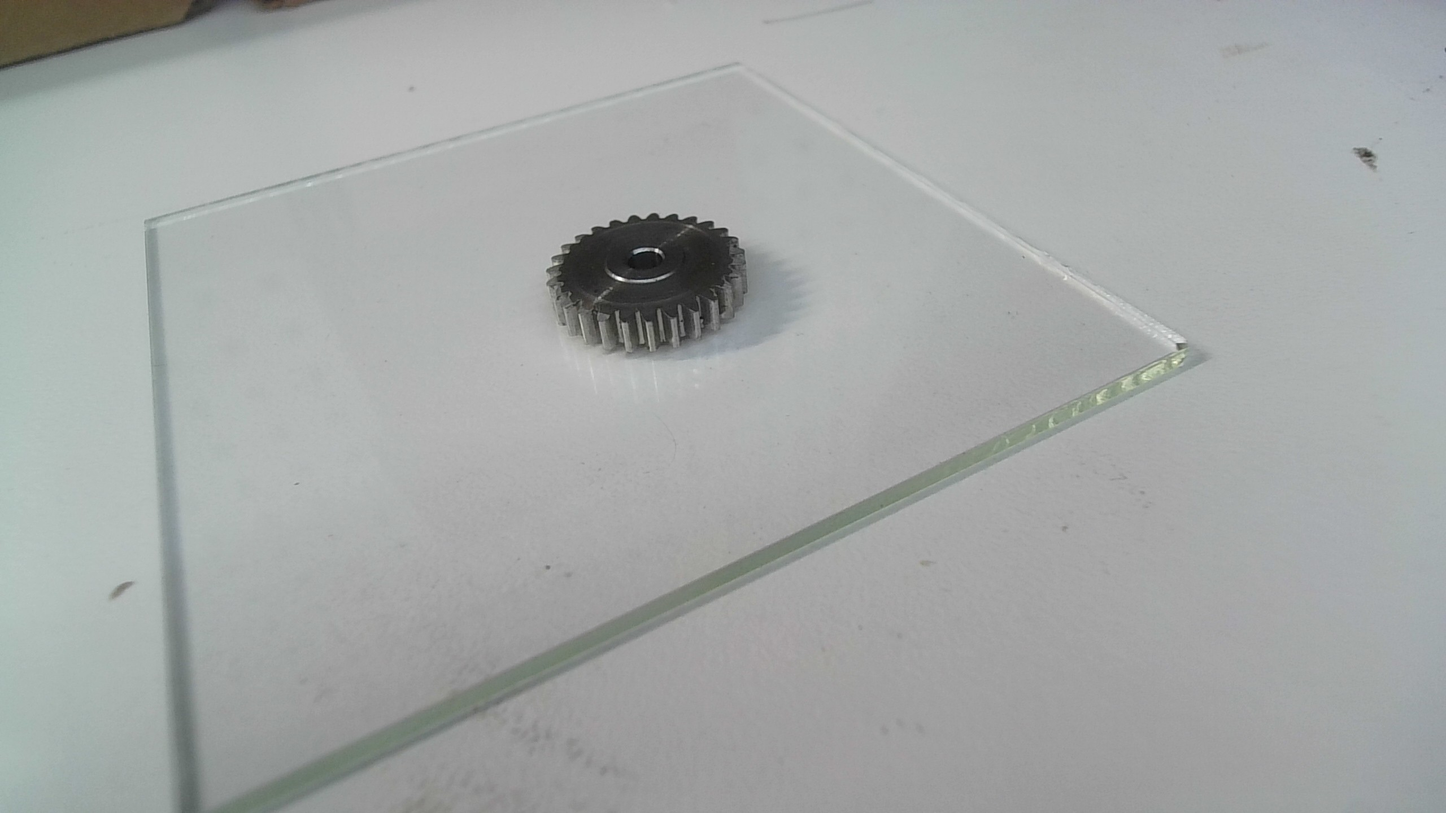gear: (543, 212, 750, 357)
